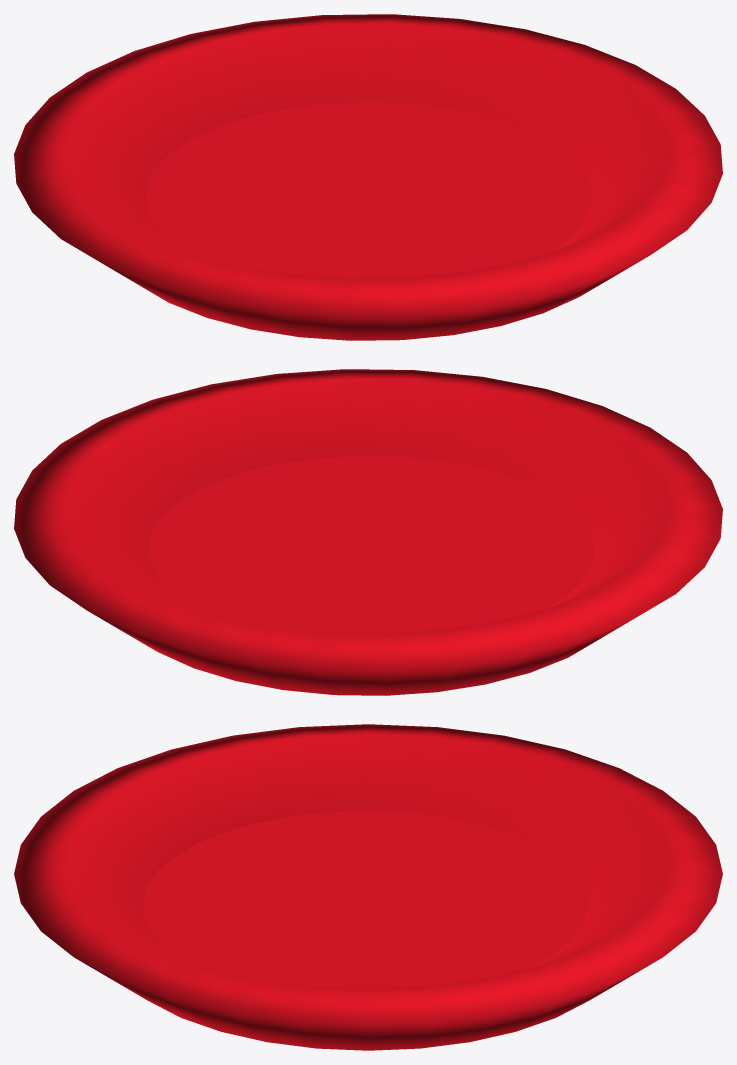
File: PlatoFinal 2.fbx
3 renders of one model, top to bottom at view 1: azimuth 30°, elevation 25°; view 2: azimuth 150°, elevation 25°; view 3: azimuth 270°, elevation 25°, orthographic.
Parts seen in each view (by area): view 1: Plato; view 2: Plato; view 3: Plato.
Part boxes in pixels (<box>): Plato: <box>14,14,722,340</box>; Plato: <box>14,369,722,695</box>; Plato: <box>14,724,722,1050</box>.
Bounding box in the file's own units: 275 × 44.53 × 275.
